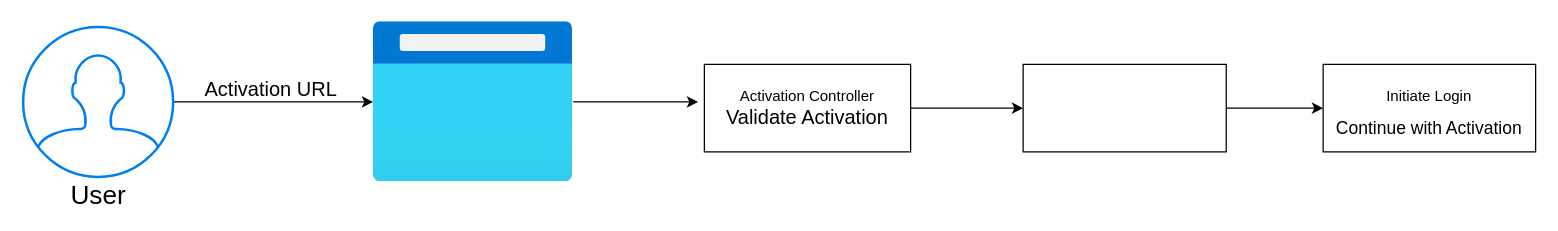
Image size: 1558x231. Some labels were removed from this diagram. Each missing label, with the centre of its shape:
Browser: (472,101)
Force Login Redirect to Auth Portal: (1124,107)
